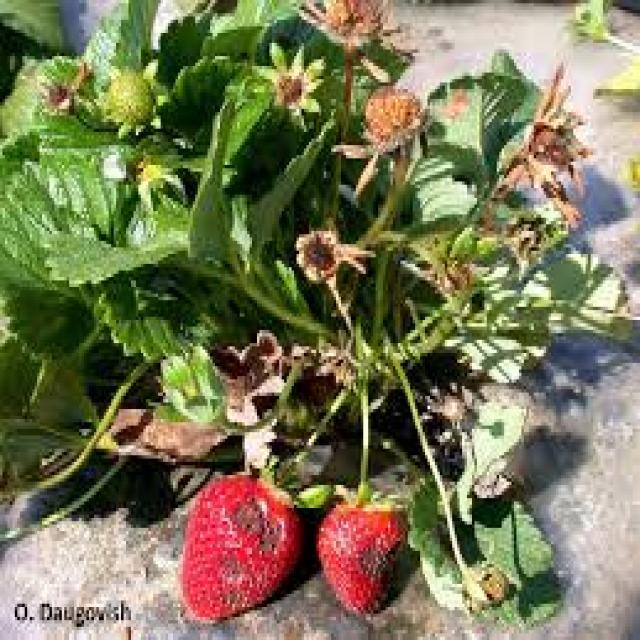Mancha negra Antracnosis: (180, 468, 310, 626), (322, 489, 404, 614)
